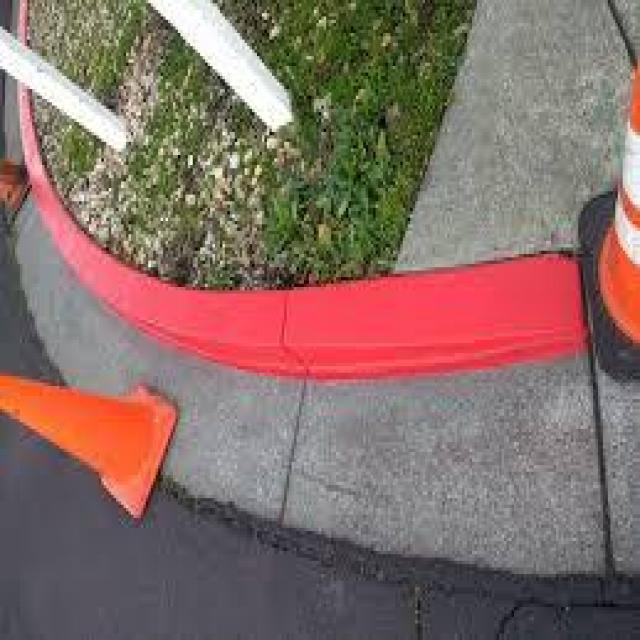bump: (171, 253, 629, 403)
